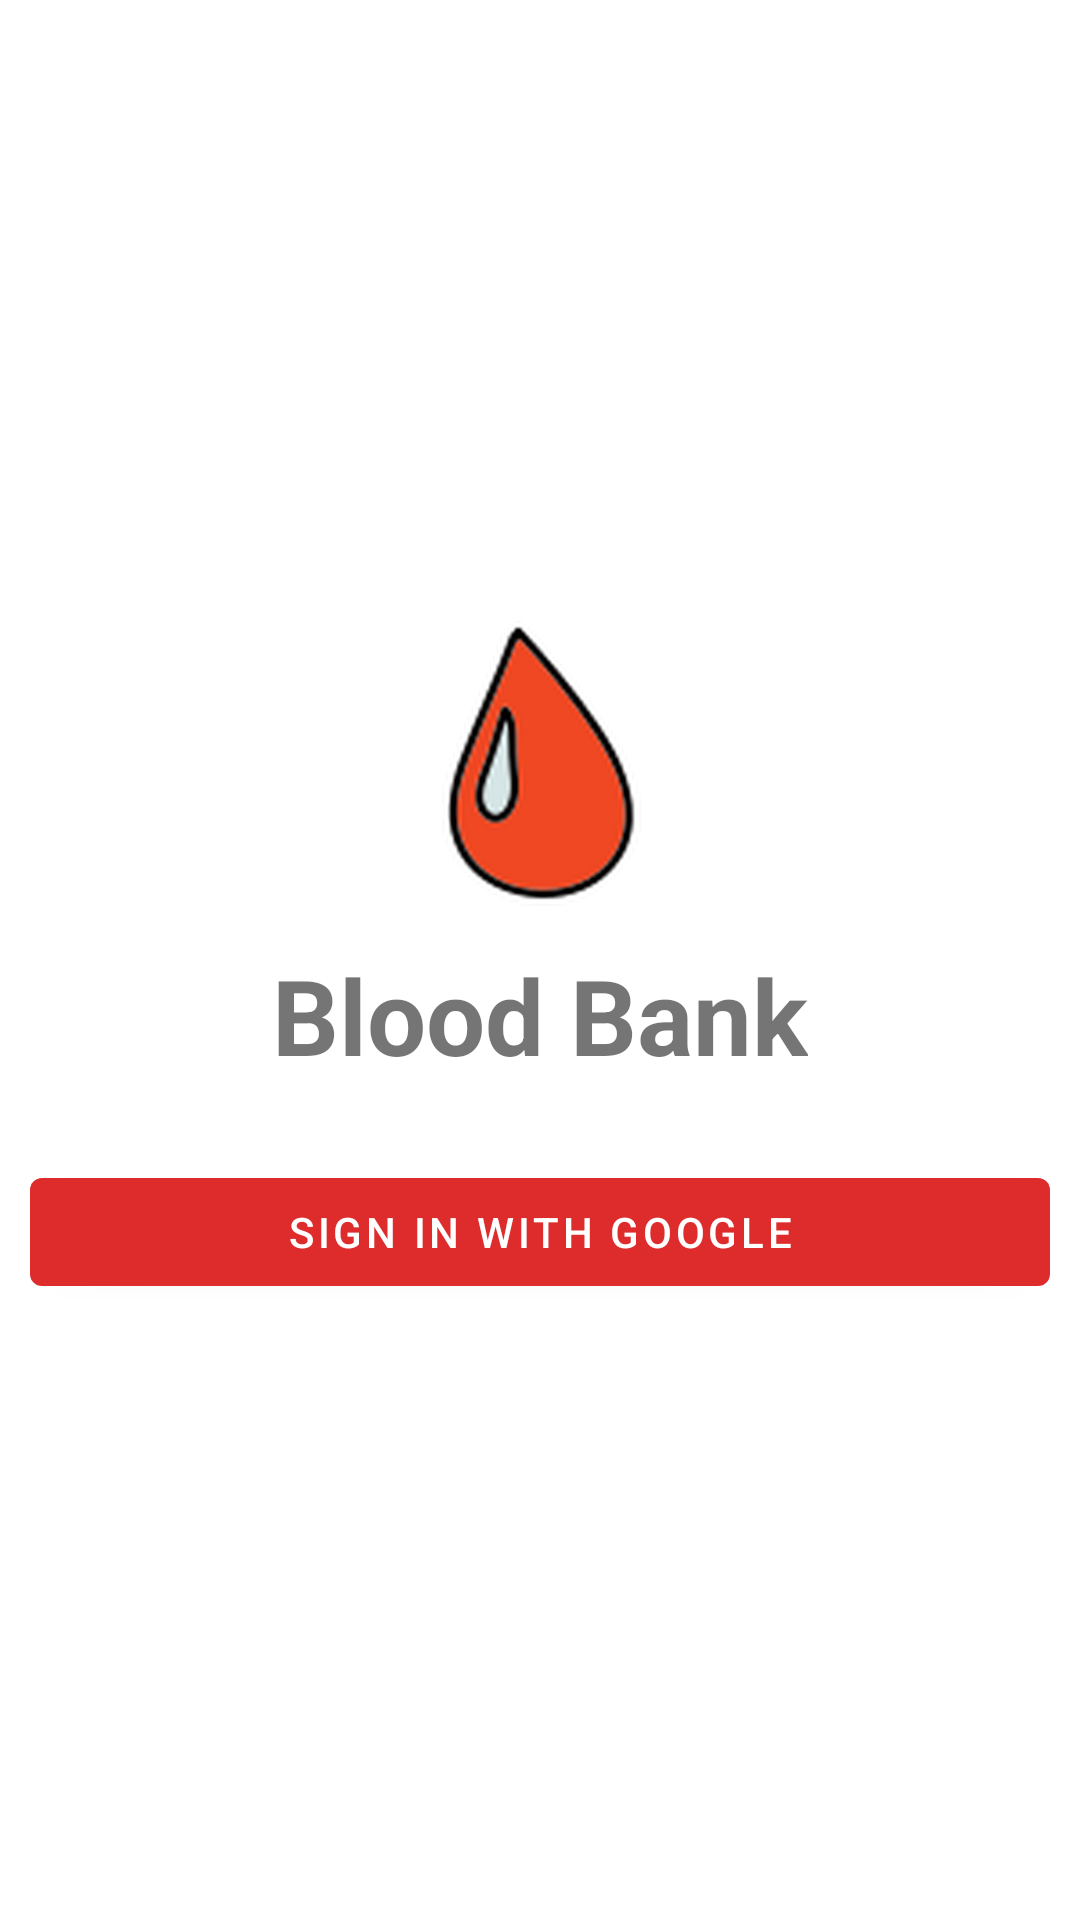

Locate icon controls on the screen. Image size 1080 × 1920, boxes as {"x1": x1, "y1": y1, "x2": x2, "y2": y2}.
appicon: {"x1": 448, "y1": 627, "x2": 635, "y2": 900}
